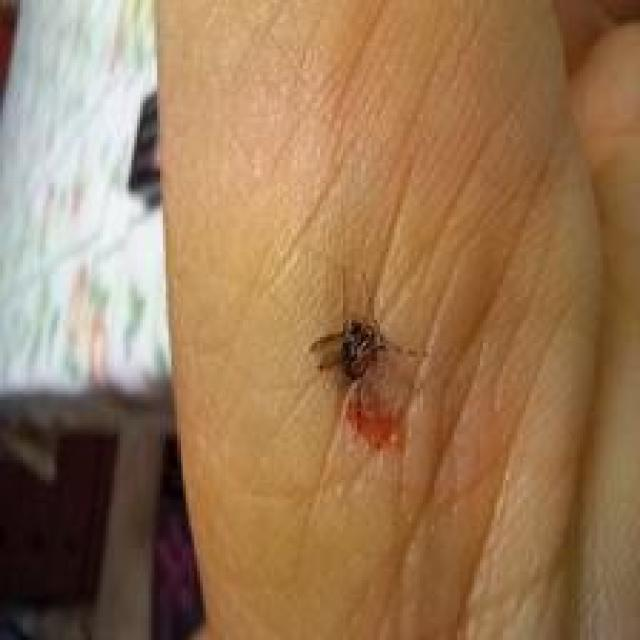Aedes albopictus: (307, 270, 430, 456)
